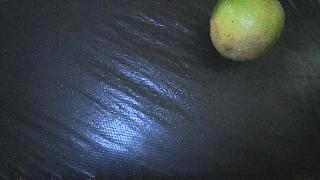DESECHO: (210, 0, 285, 61)
